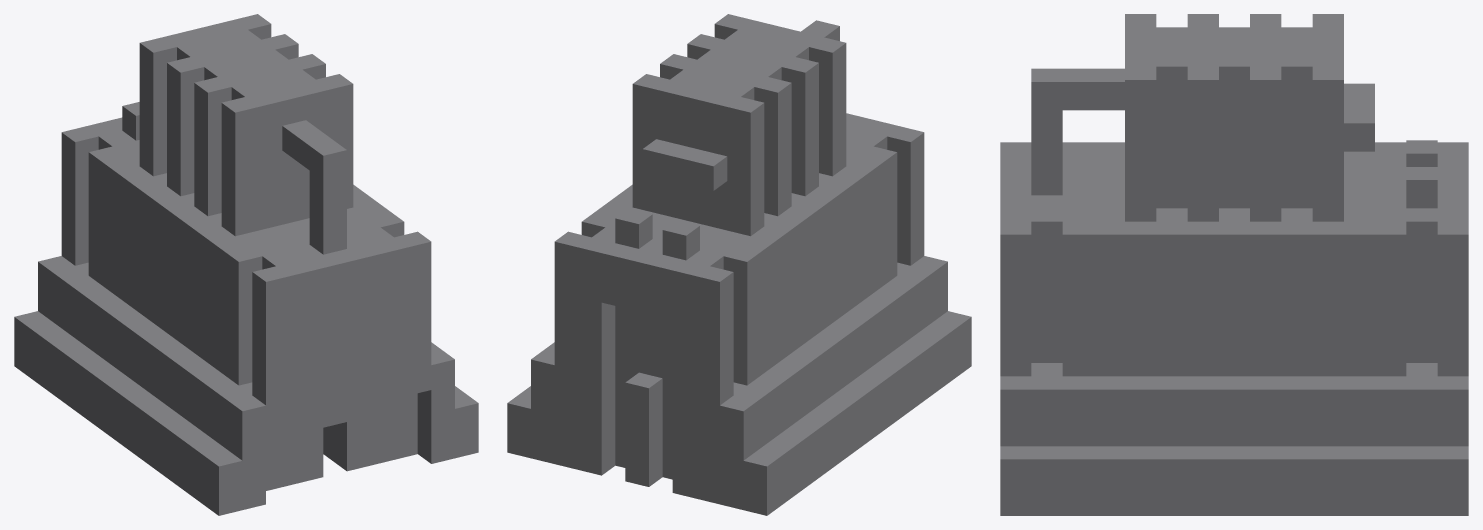
Rendered from building2.obj.
3 views of the same model, side by side, from view 1: azimuth 30°, elevation 25°; view 2: azimuth 150°, elevation 25°; view 3: azimuth 270°, elevation 25° (orthographic). The views are drawn at different scales.
Bounding box in the file's own units: 11 × 14 × 15.
Materials: 1 (1 with a texture image).
